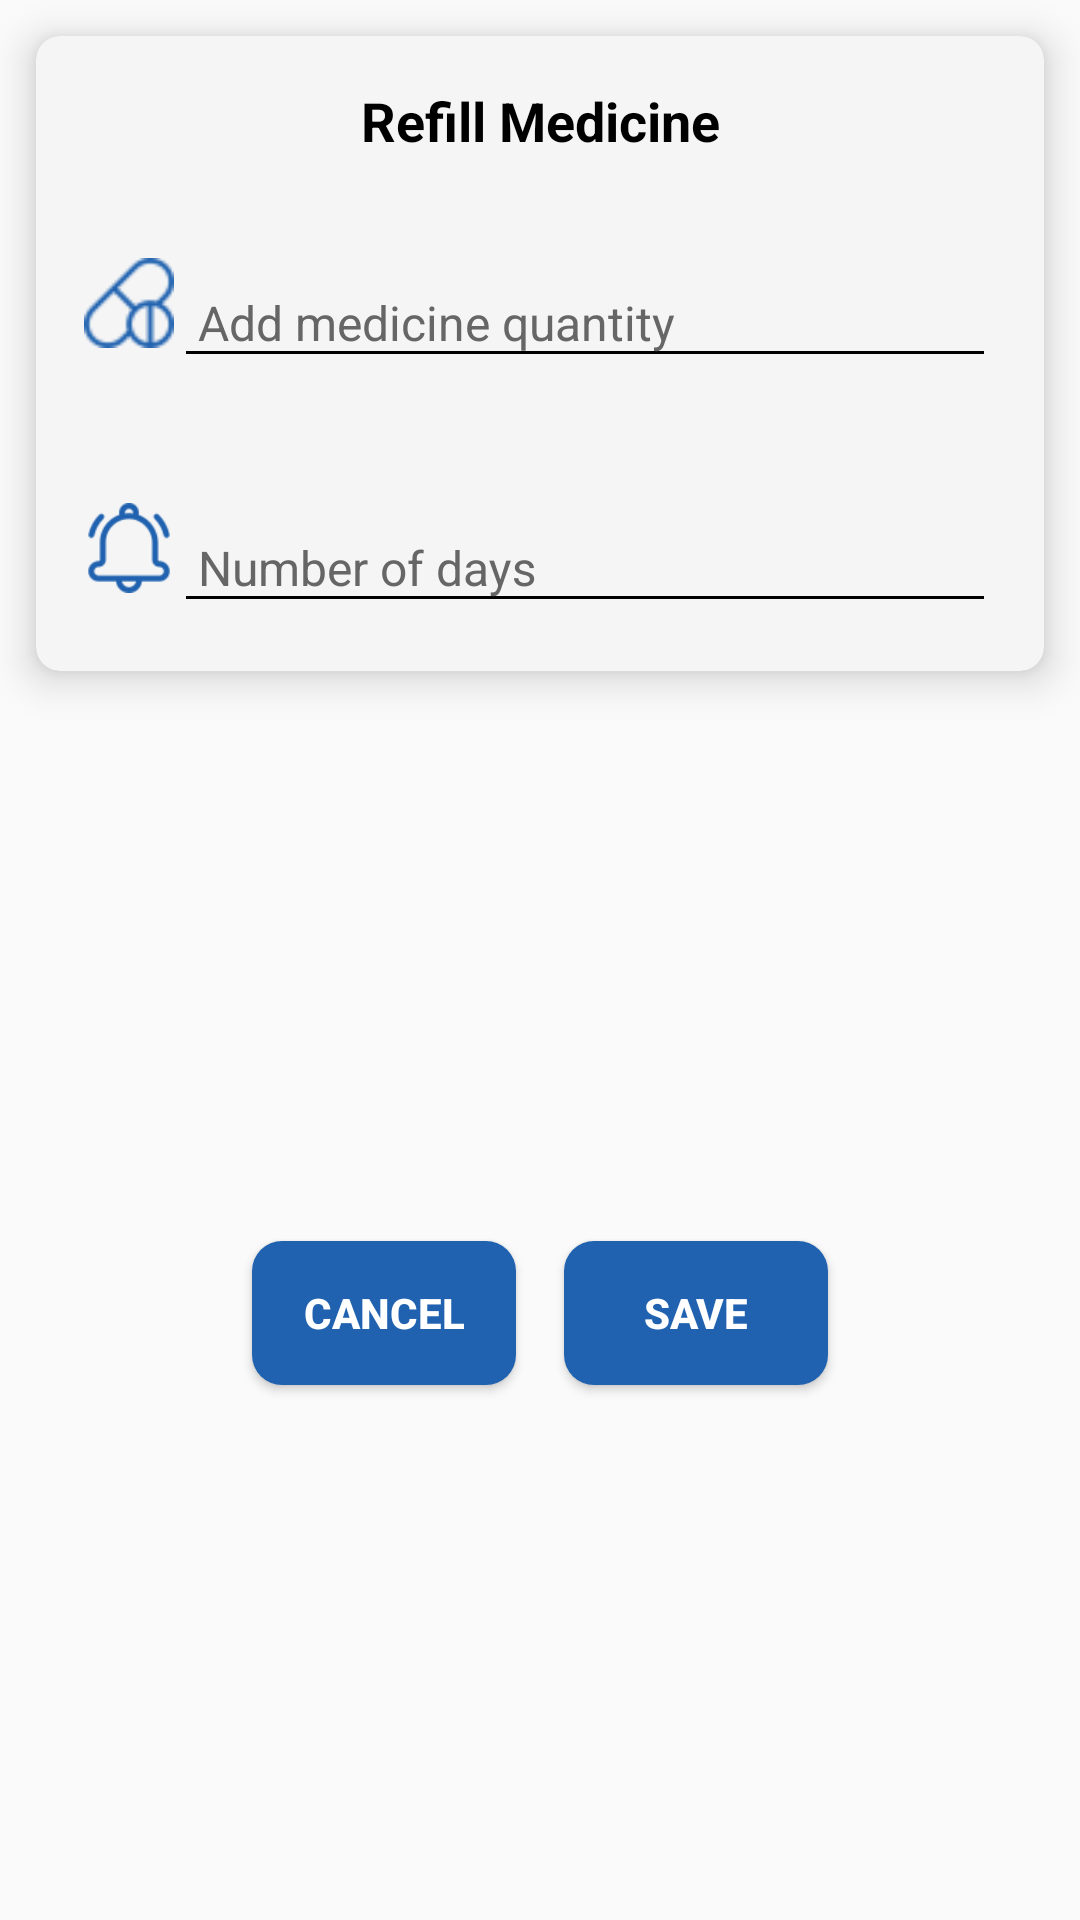

Icons on this 1080 × 1920 Android screen, each with the point to tap as [x,y]:
drugs: [129,303]
